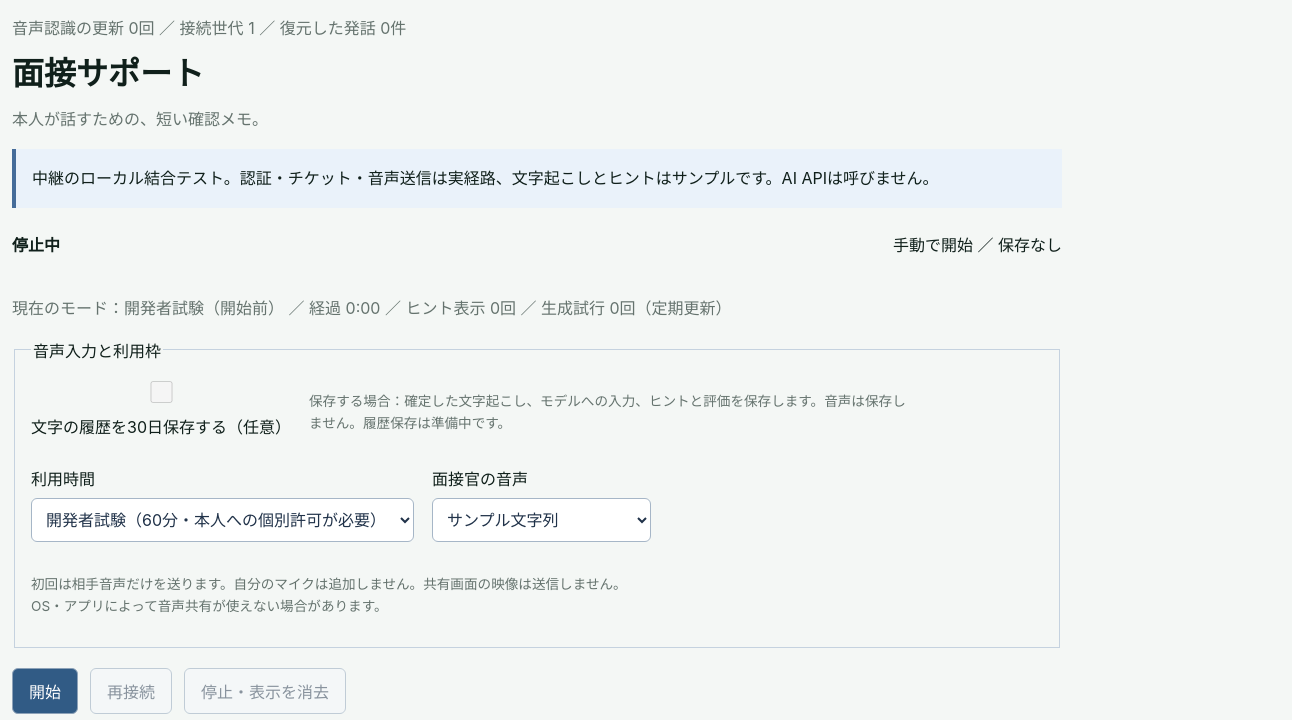
relay panel › uses the server-authorized initial mode and exposes a safe failure code
This screenshot has width=1292, height=720.
Expected: the dropdown labelled "利用時間" shows "開発者試験（60分・本人への個別許可が必要）", x1=31 y1=498 x2=414 y2=542
Click the button "開始": [45, 691] box x1=12 y1=668 x2=78 y2=714
(page scrolled)
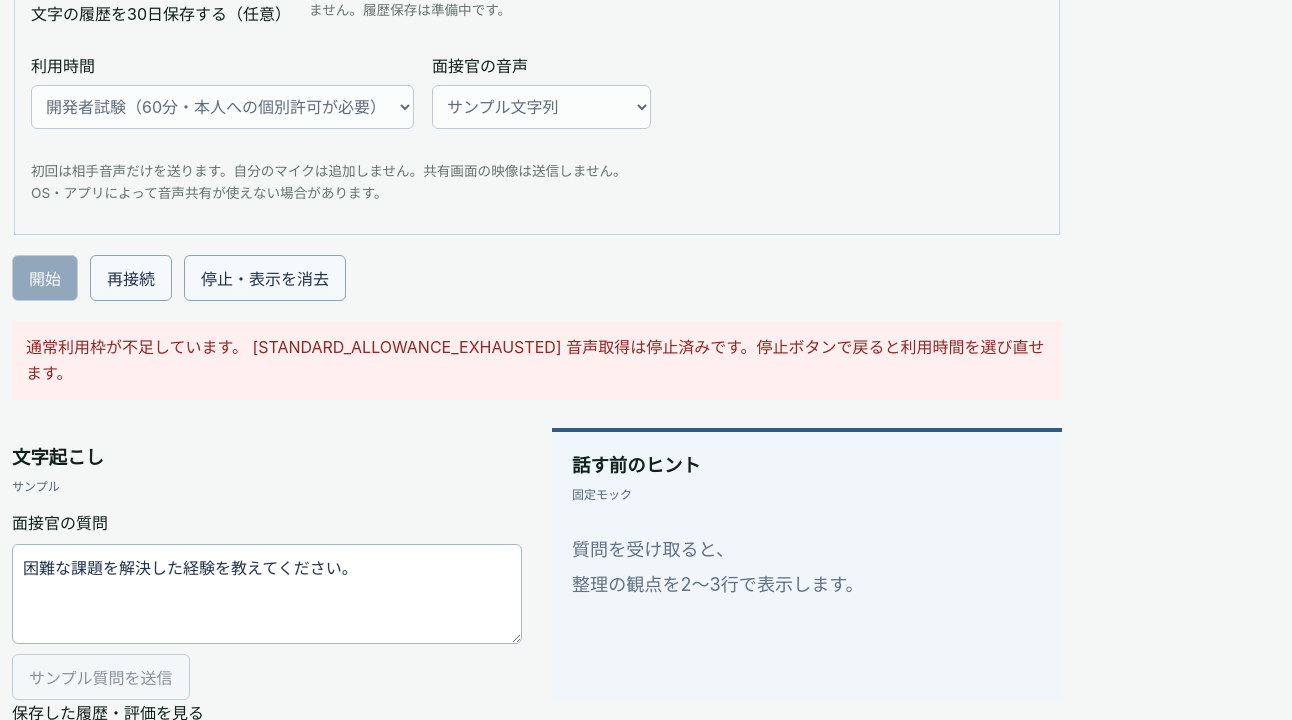
Expected: the message shows "STANDARD_ALLOWANCE_EXHAUSTED", x1=26 y1=337 x2=1044 y2=382
Expected: the message shows "利用時間を選び直せます", x1=26 y1=337 x2=1044 y2=382
